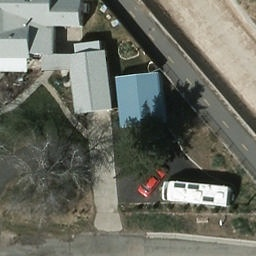camping car: (163, 182, 231, 210)
car: (136, 164, 172, 199)
